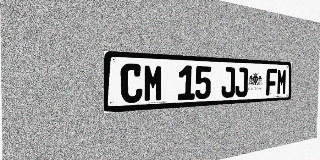1: (178, 65, 195, 100)
5: (195, 66, 211, 99)
C: (120, 63, 143, 103)
F: (266, 68, 277, 96)
J: (221, 67, 235, 98), (235, 67, 248, 97)
M: (143, 64, 163, 102), (277, 69, 287, 95)
